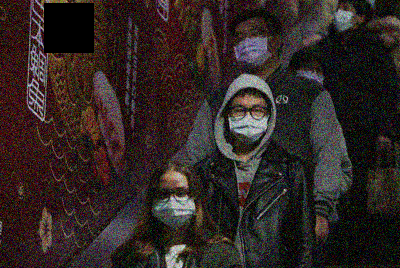with_mask: (233, 24, 279, 70), (152, 184, 196, 230), (227, 101, 270, 143), (294, 61, 326, 85), (335, 4, 359, 33)
